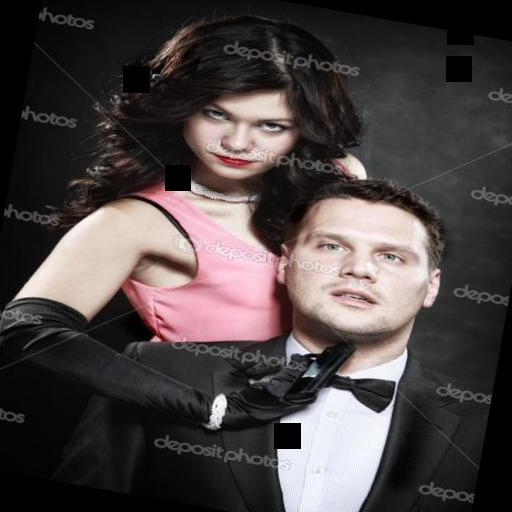Handgun: (224, 318, 364, 428)
